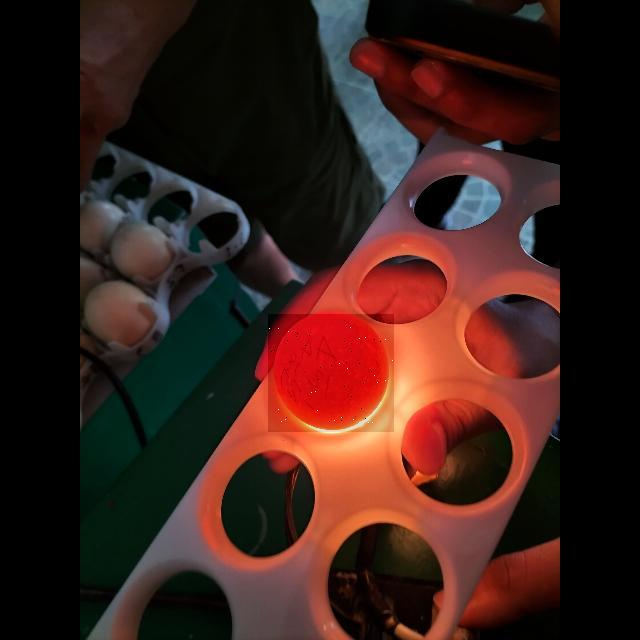Infertile: (268, 314, 394, 432)
